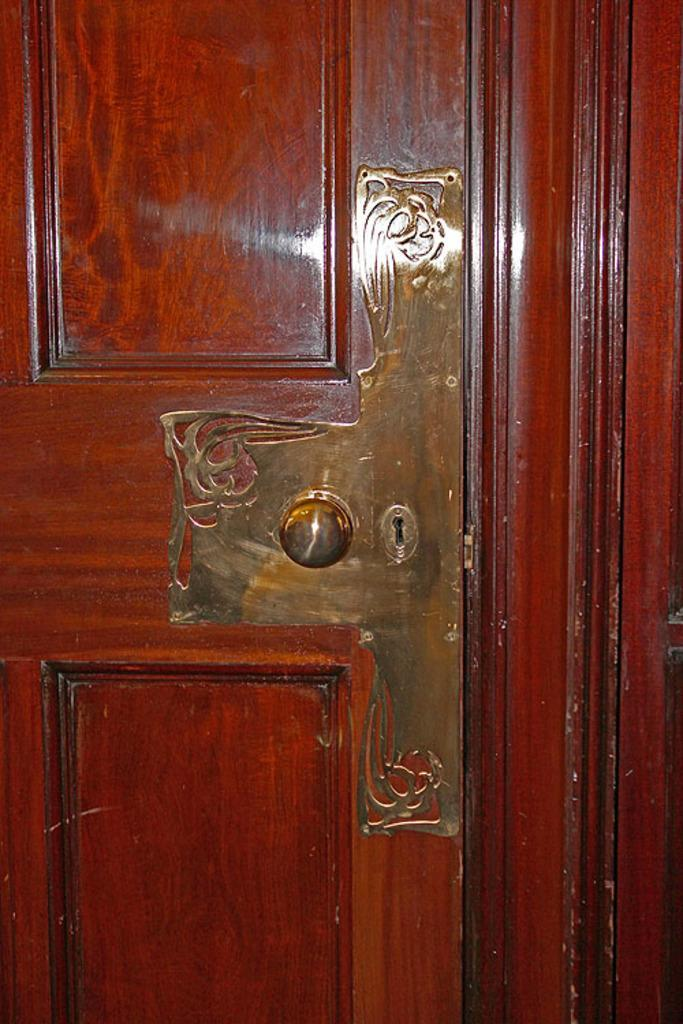door: (16, 34, 451, 966)
handle: (274, 478, 358, 600)
